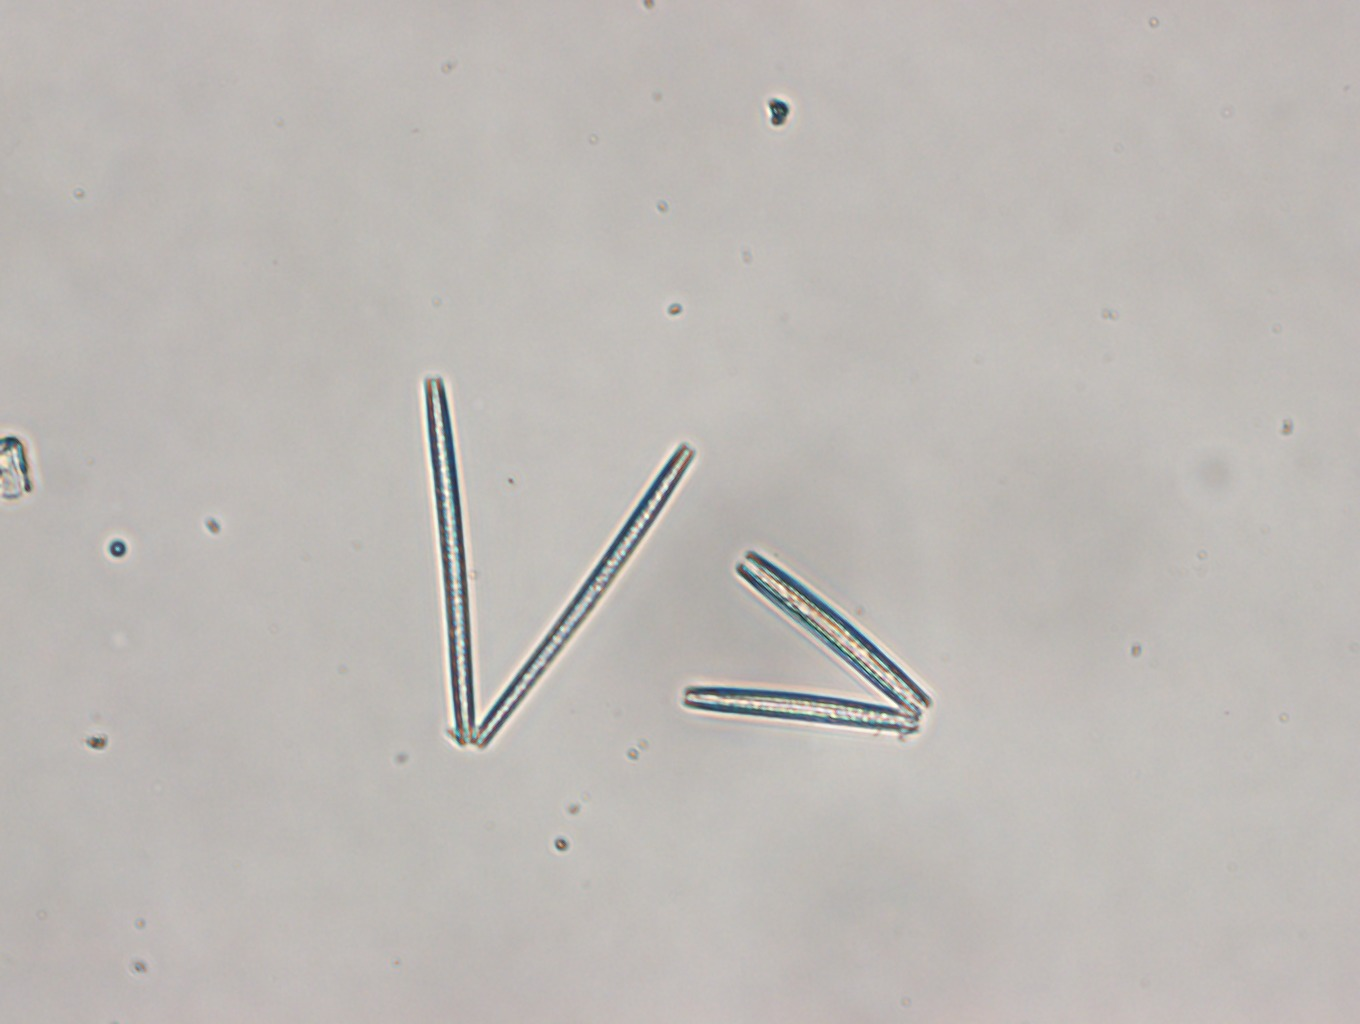thalassionema frauenfeldii: (420, 376, 695, 751)
thalassionema nitzschioides: (679, 547, 932, 734)
